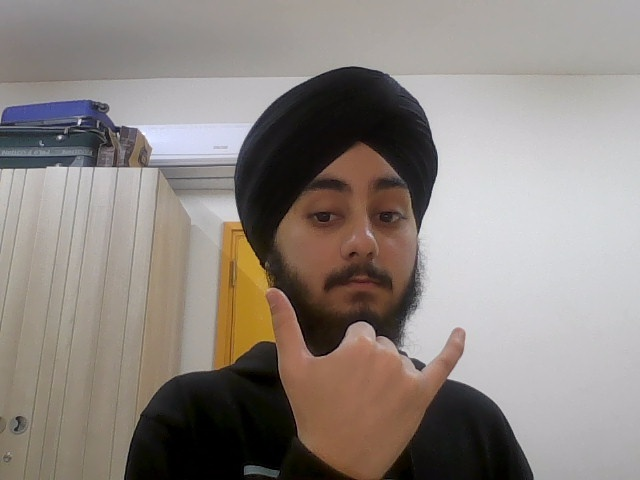Wrong: (262, 281, 469, 476)
